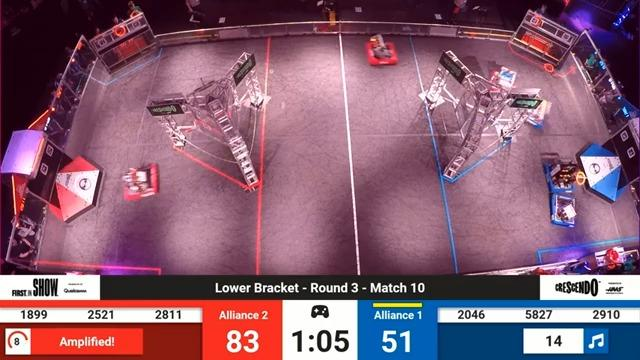robot: (542, 155, 587, 202), (537, 193, 587, 230), (518, 89, 555, 138), (122, 161, 165, 202), (359, 33, 403, 68), (488, 66, 519, 92)
